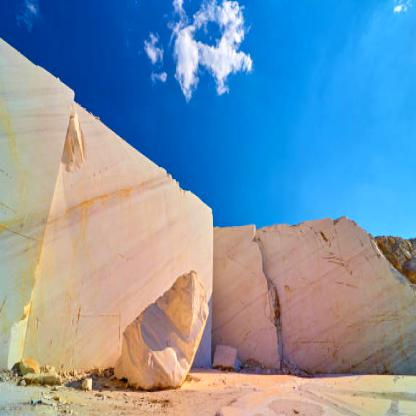Metamorphic_Marble: (18, 102, 223, 381), (261, 204, 415, 391), (117, 254, 214, 394)
